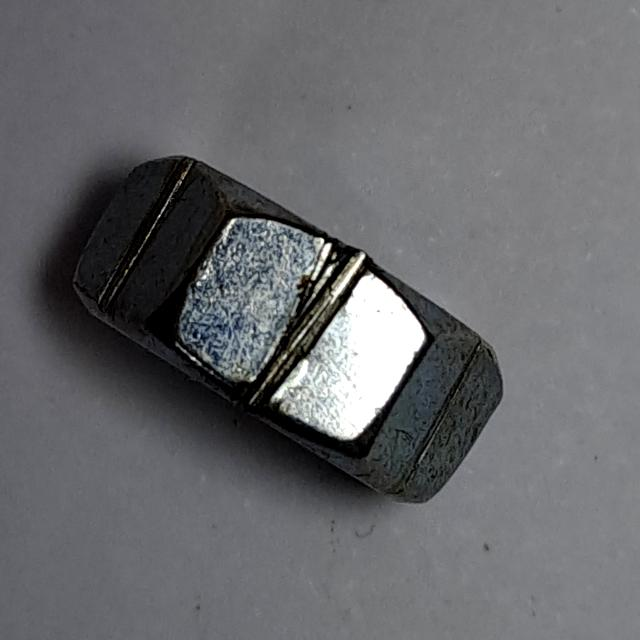Side_Scratches: (64, 136, 514, 517)
